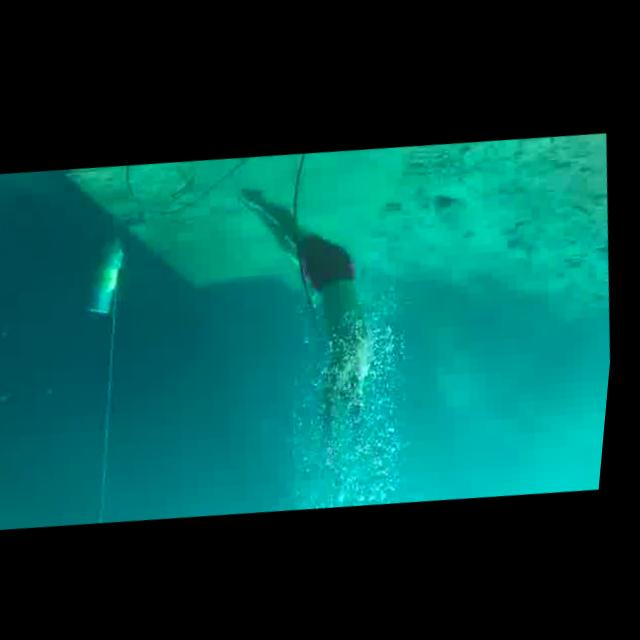human: (214, 163, 418, 478)
